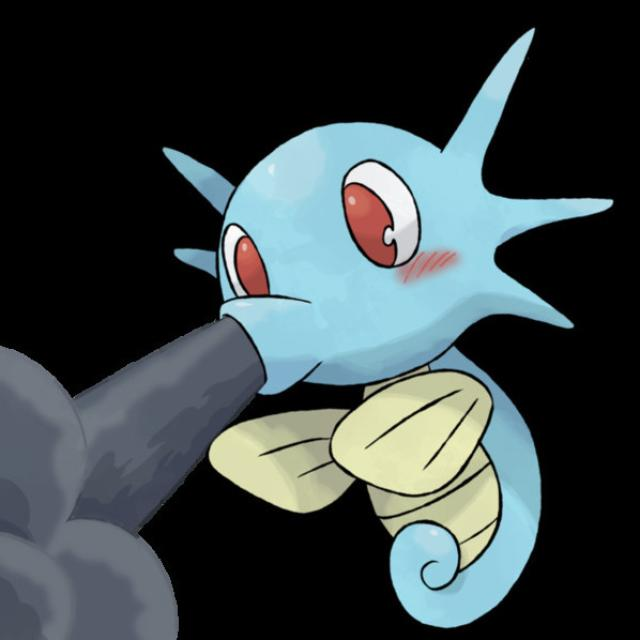Horsea: (215, 110, 606, 620)
